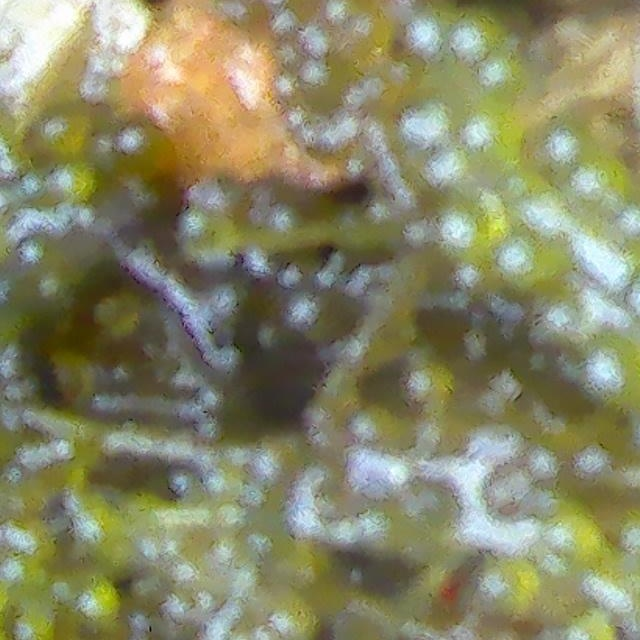SeaGrape: (583, 333, 640, 410), (435, 201, 497, 268), (493, 232, 543, 293), (547, 515, 604, 564)
